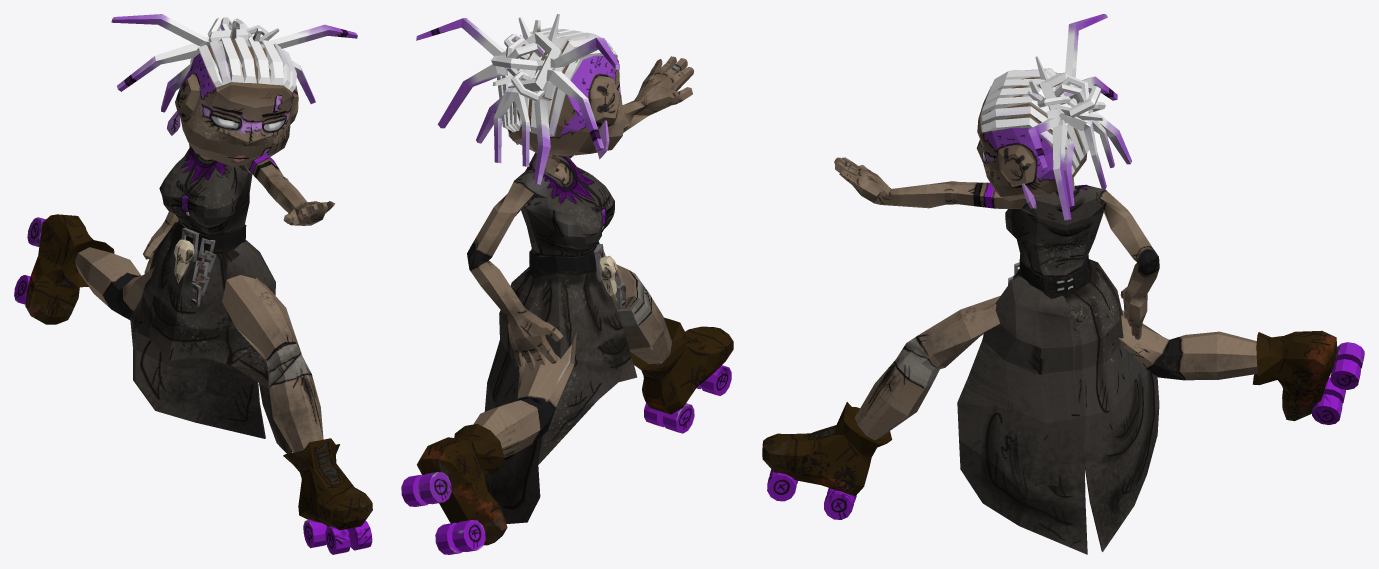
Rendered from bruja_000026.obj.
The picture shows the model from 3 angles, left to right: view 1: azimuth 30°, elevation 25°; view 2: azimuth 150°, elevation 25°; view 3: azimuth 270°, elevation 25°; orthographic projection. The views are drawn at different scales.
Visible parts, largest first — view 1: Bruja_Plane.001; view 2: Bruja_Plane.001; view 3: Bruja_Plane.001.
Boxes of the visible parts, x1,y1,x2,y2 form: Bruja_Plane.001: (14, 14, 372, 554); Bruja_Plane.001: (401, 14, 733, 554); Bruja_Plane.001: (762, 14, 1364, 554).
Bounding box in the file's own units: 7.13 × 14.58 × 16.95.
